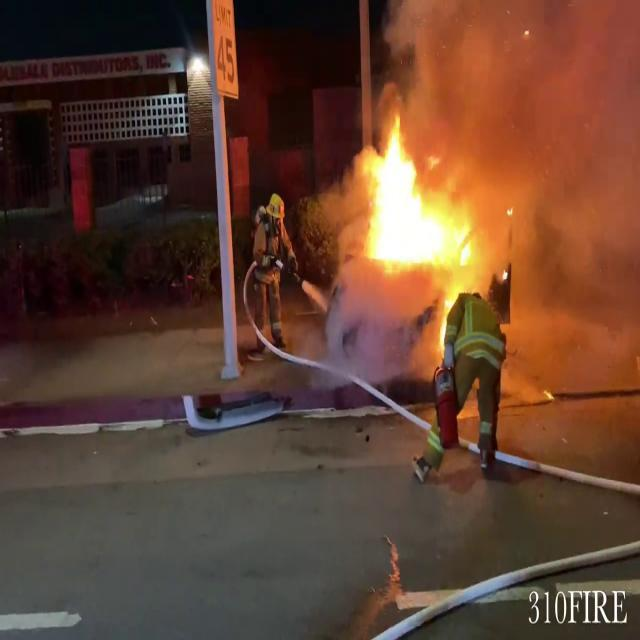Fire: (349, 112, 477, 278)
Smoke: (426, 1, 640, 395)
